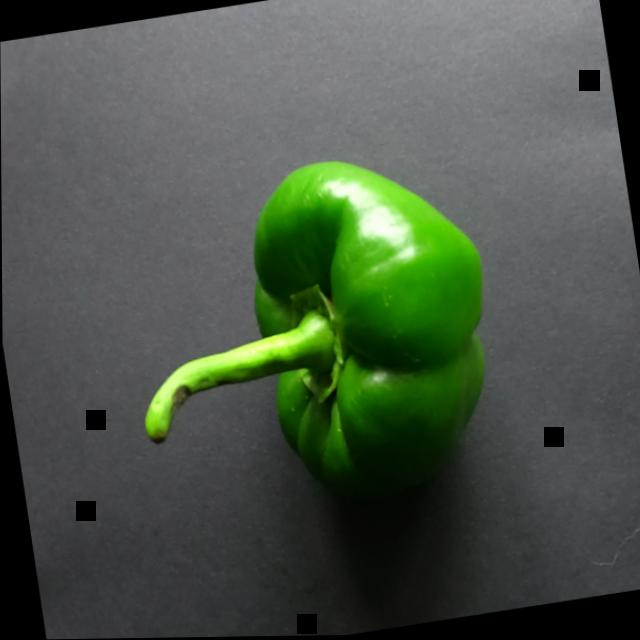Greenpepper: (103, 122, 529, 558)
